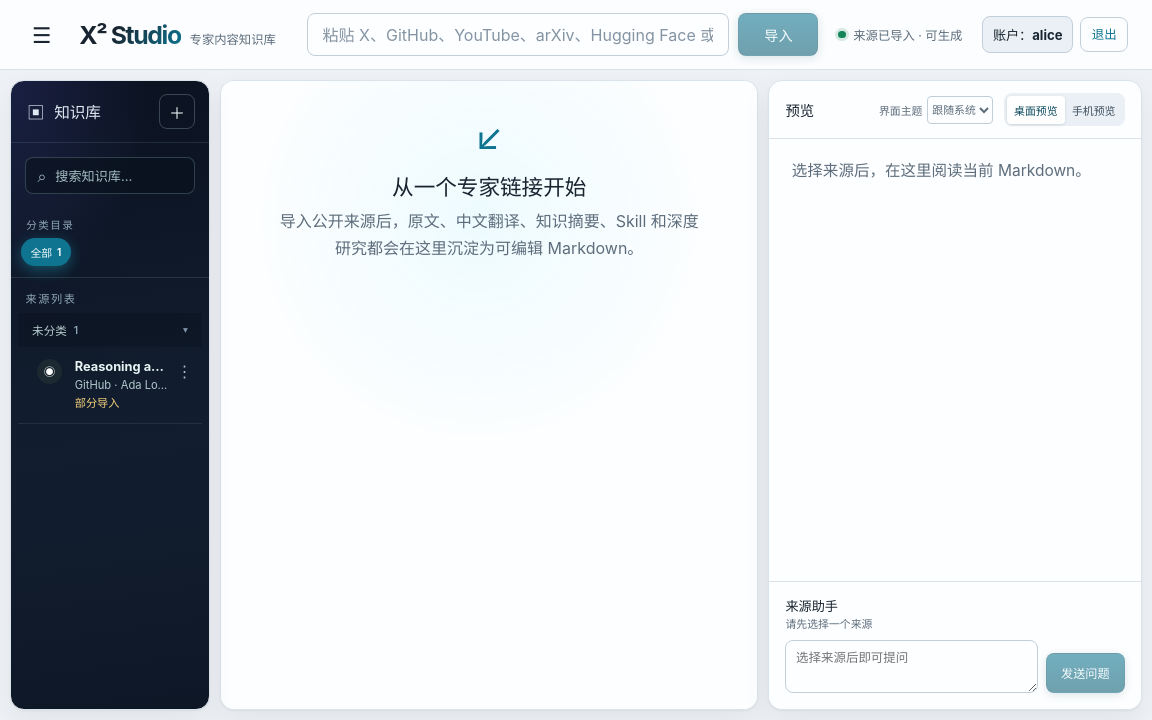
it: three-pane studio › keeps a usable restriction banner when source access or generation is unavailable
Click the button "◉ Reasoning at Scale GitHub · Ada Lovelace 部分导入 ⋮": point(110, 385) [18,346,202,423]
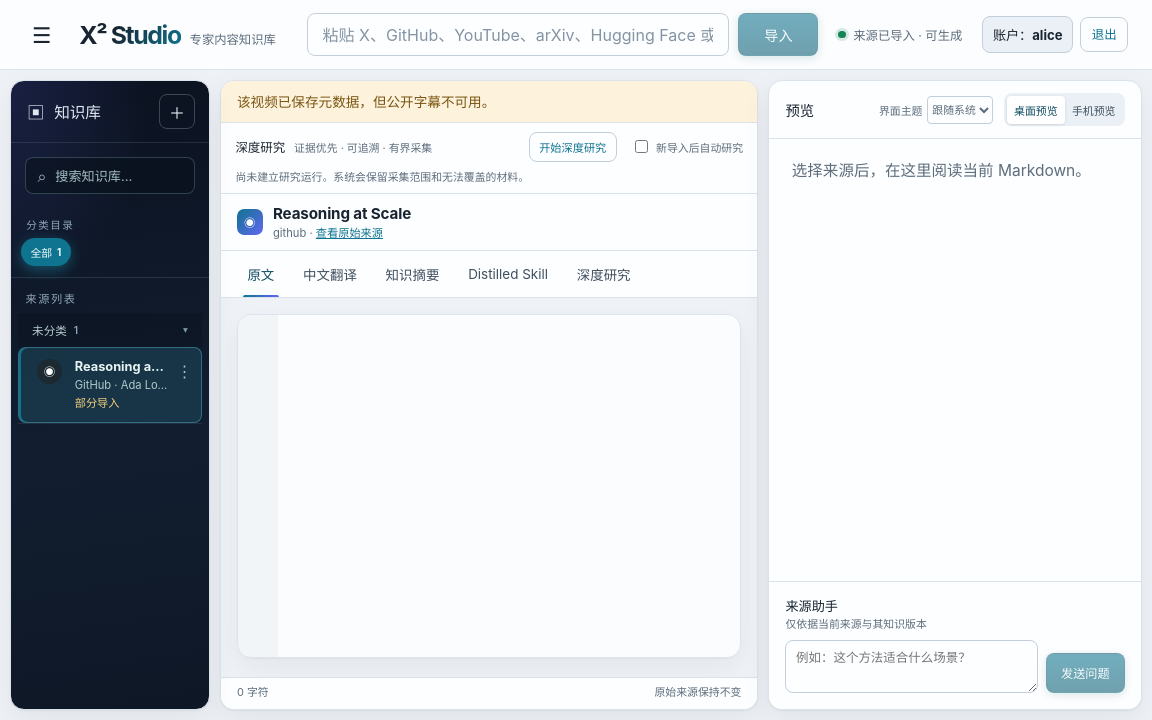
Check: the text "部分导入" is shown, box [75,396,120,410]
Check: the heading "Reasoning at Scale" is shown, box [273,204,411,223]
Click the tab "中文翻译": point(330, 274) [290,251,370,297]
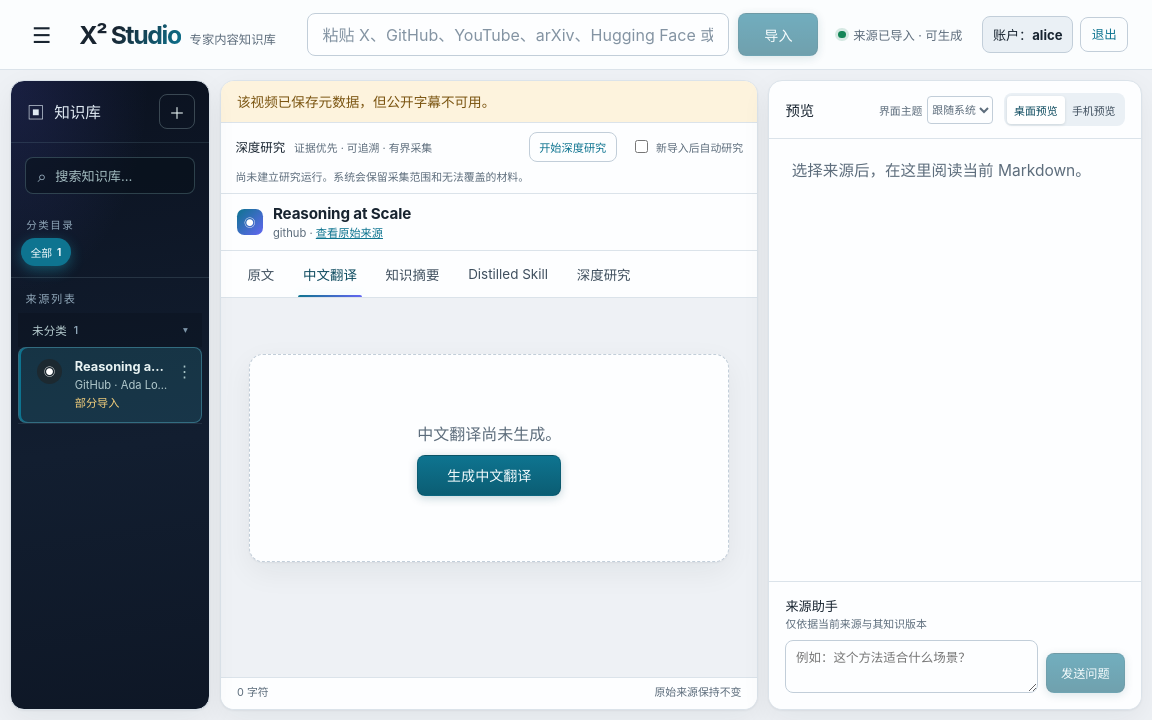
Check: the tab "中文翻译" is selected, box [290,251,370,297]
Click the button "生成中文翻译": point(489, 475) [417,455,561,496]
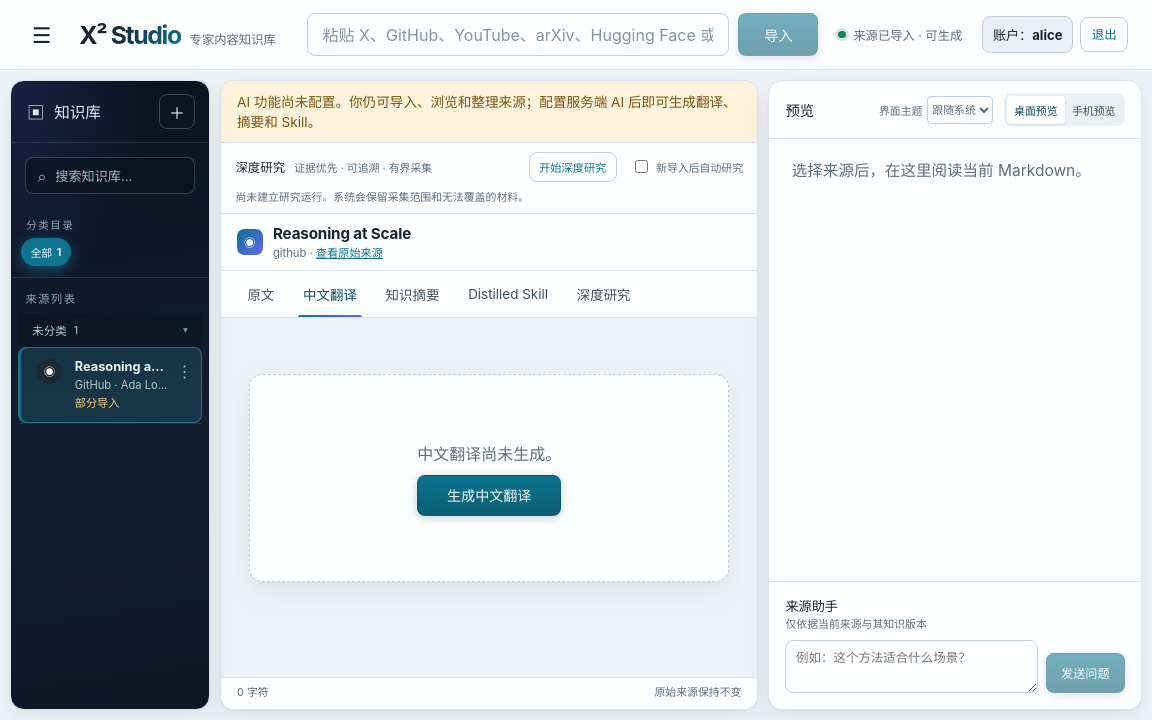
Check: the text "AI 功能尚未配置。你仍可导入、浏览和整理来源；配置服务端 AI 后即可生成翻译、摘要和 Skill。" is shown, box [221,81,758,143]
